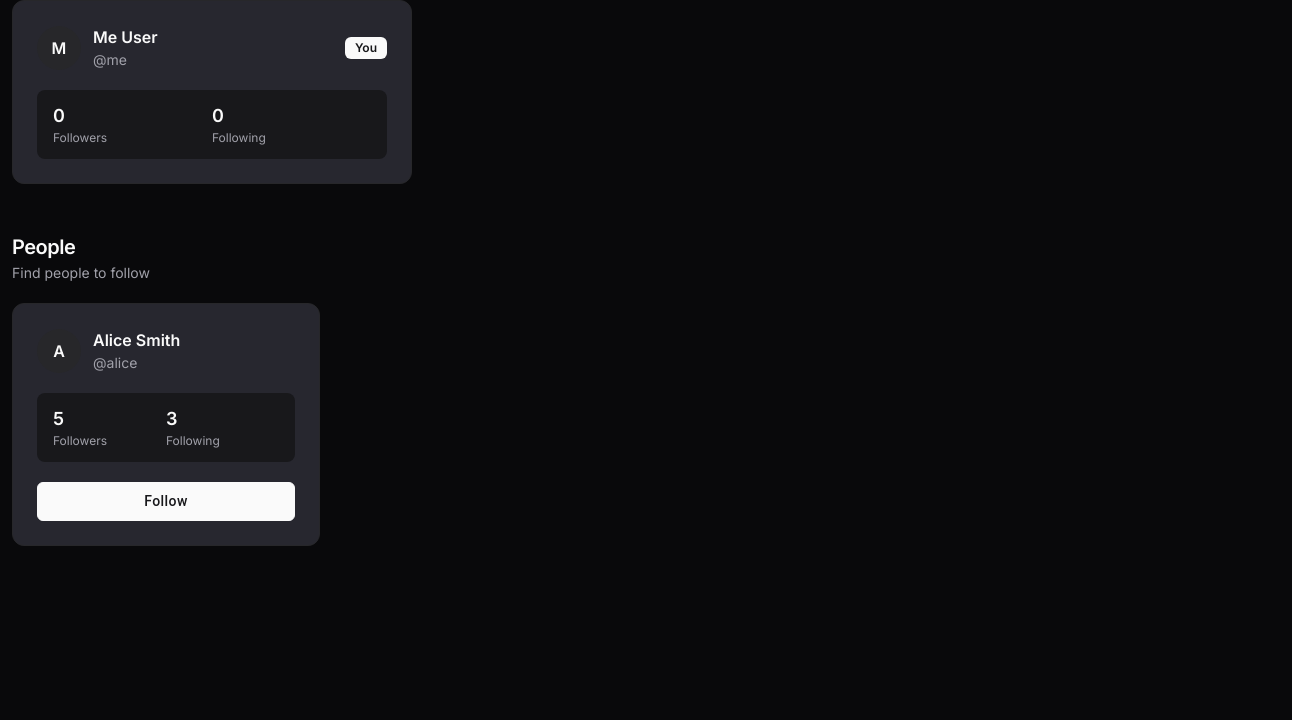
follow button › rolls the count back and shows a toast when the mutation fails
This screenshot has width=1292, height=720.
Later steps or results of the test are not shown.
Click the button "Follow".
click(166, 501)  # box [37,482,295,520]
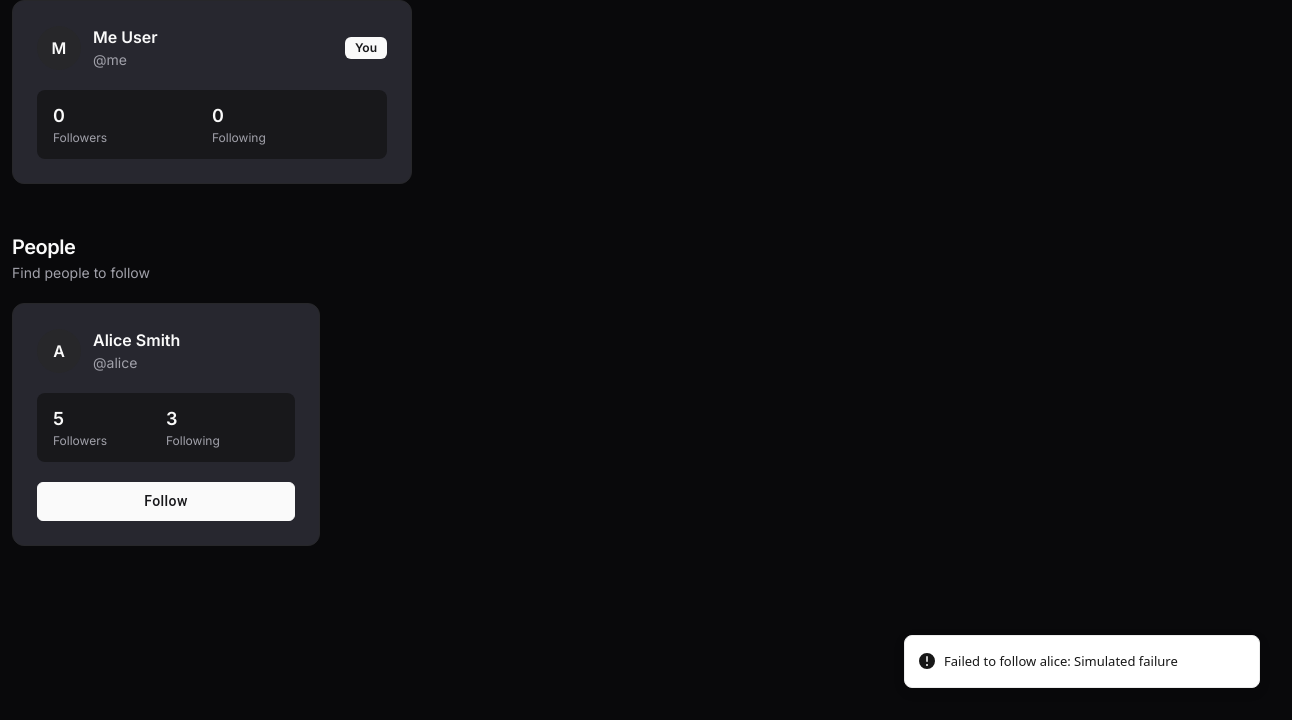
Expected: the text "Failed to follow alice: Simulated failure" is shown, [944,652,1178,671]
